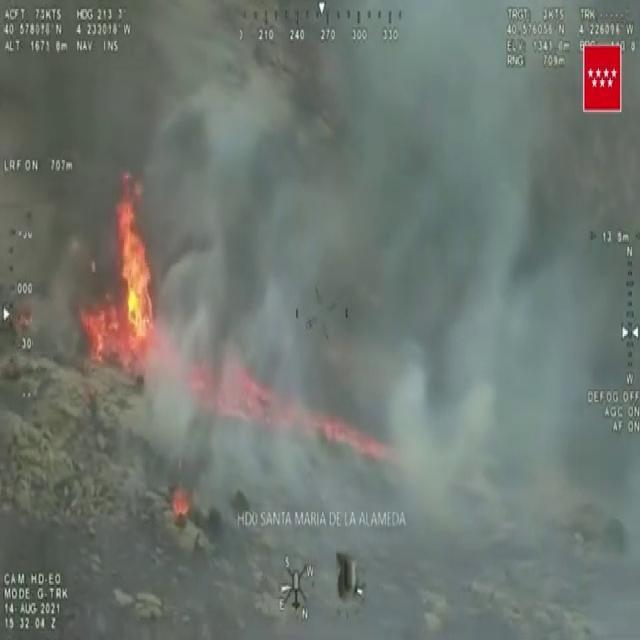Fire: (86, 173, 160, 367)
Smoke: (102, 2, 608, 482)
